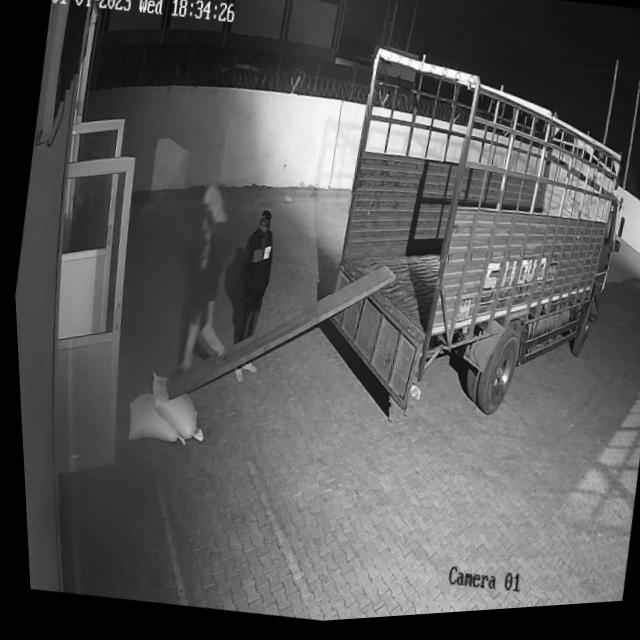sack: (136, 369, 209, 446), (116, 390, 188, 451)
